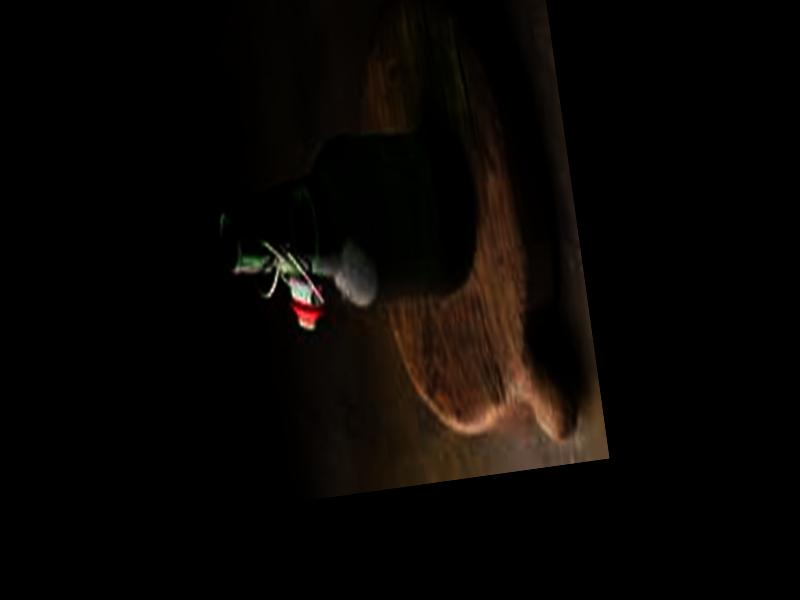Beer: (206, 127, 478, 324)
